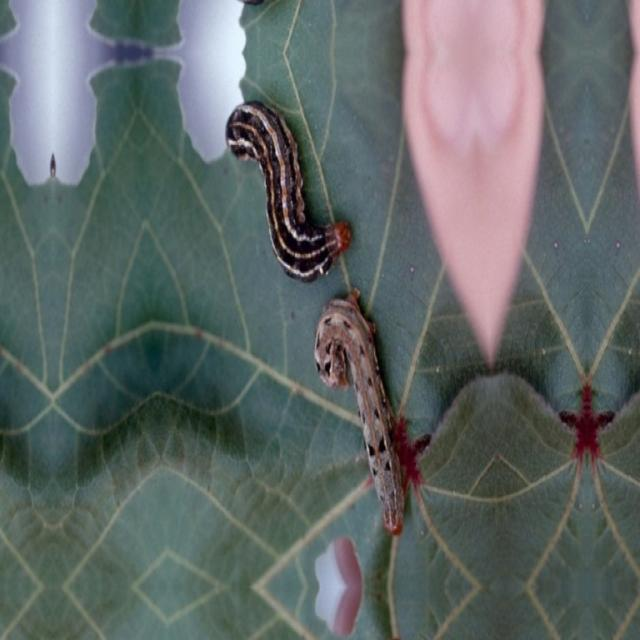Armyworm: (202, 60, 367, 294), (311, 284, 437, 546)
